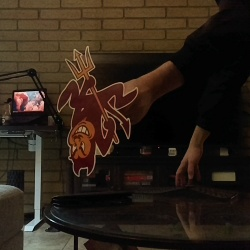sparky: (55, 45, 138, 176)
